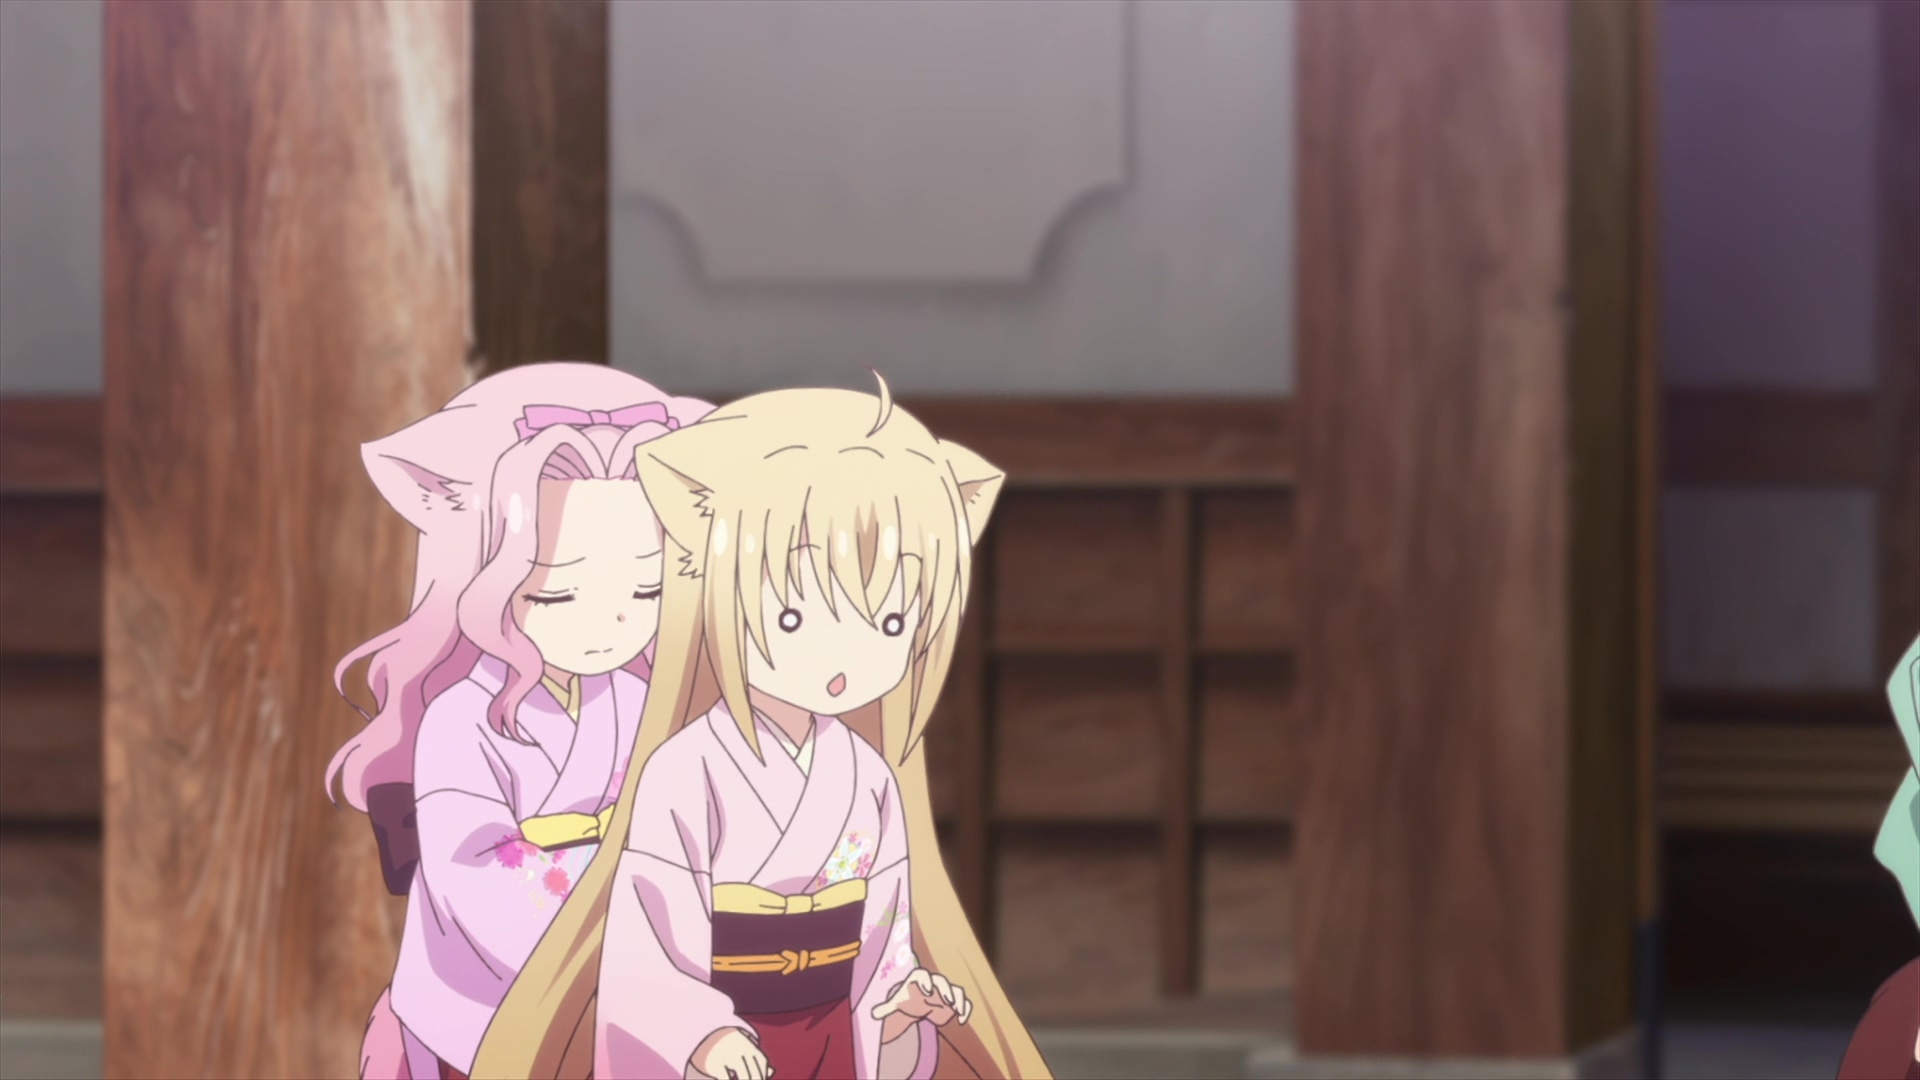柚: (469, 369, 1048, 1080)
莲: (322, 357, 717, 1080)
